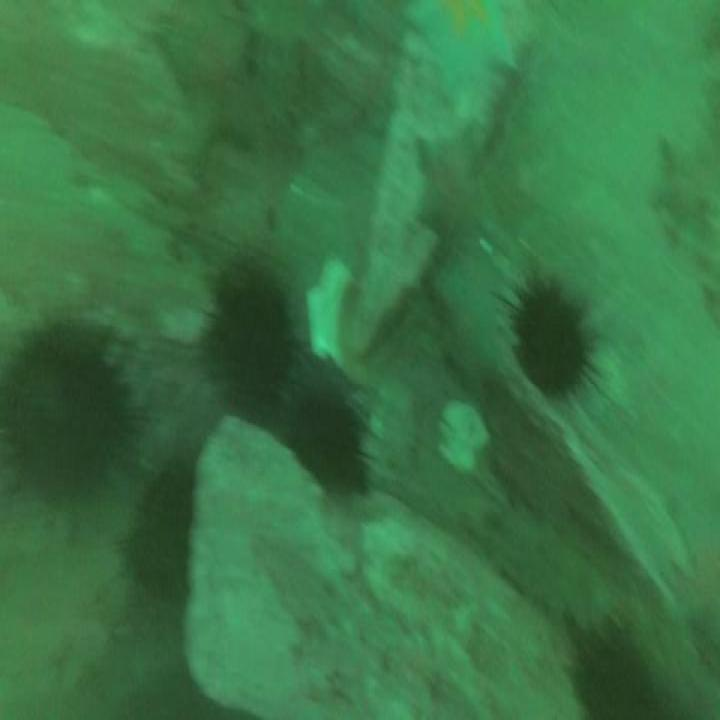echinus: (4, 329, 124, 501), (215, 277, 293, 409), (573, 620, 666, 720), (513, 281, 588, 386), (286, 390, 358, 483), (130, 476, 191, 585)
scallop: (439, 396, 488, 474)
starfish: (419, 121, 484, 245)
